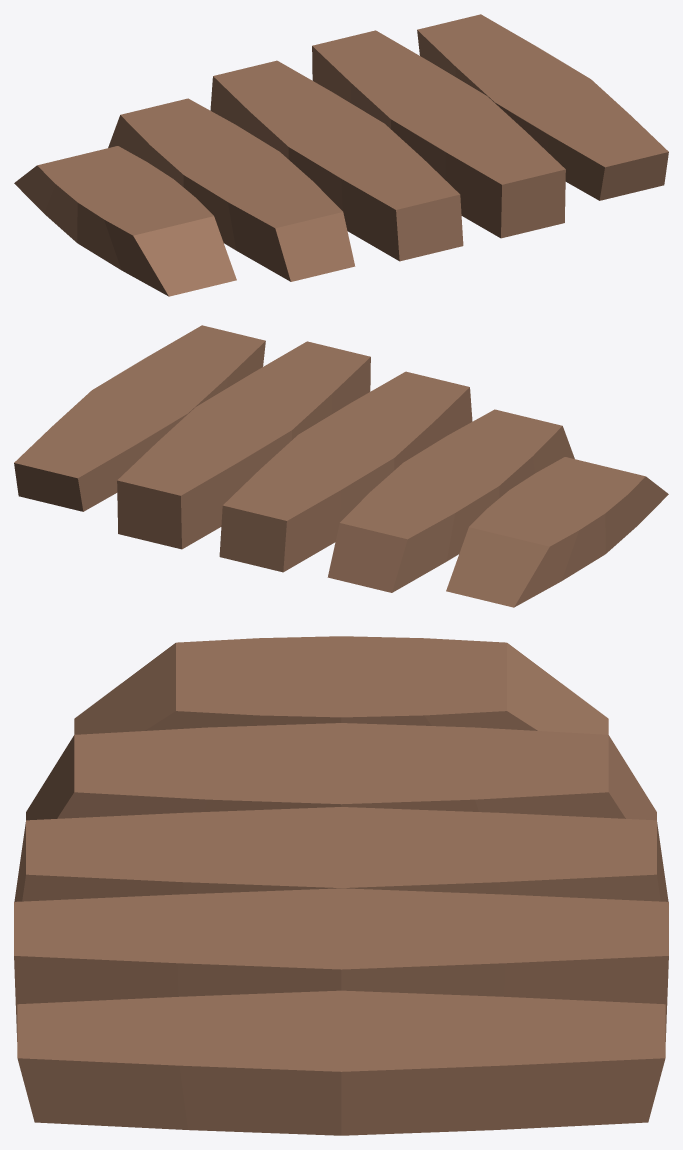
The model's file is MartianFish_FryingPan_Ready.fbx.
3 views of the same model, one above another, from view 1: azimuth 30°, elevation 25°; view 2: azimuth 150°, elevation 25°; view 3: azimuth 270°, elevation 25° (orthographic). The views are drawn at different scales.
Visible parts, largest first — view 1: MartianFish_FryingPan_Ready; view 2: MartianFish_FryingPan_Ready; view 3: MartianFish_FryingPan_Ready.
Part boxes in pixels (bbox=[...]): MartianFish_FryingPan_Ready: bbox=[14, 14, 668, 296]; MartianFish_FryingPan_Ready: bbox=[14, 325, 668, 607]; MartianFish_FryingPan_Ready: bbox=[14, 636, 668, 1135].
Size of the model in its own units: 38.36 by 24.58 by 3.89.
